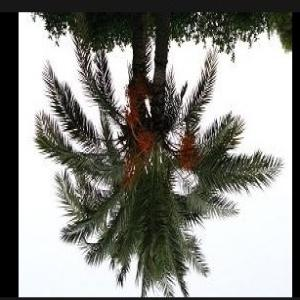palm tree: (30, 11, 288, 296)
